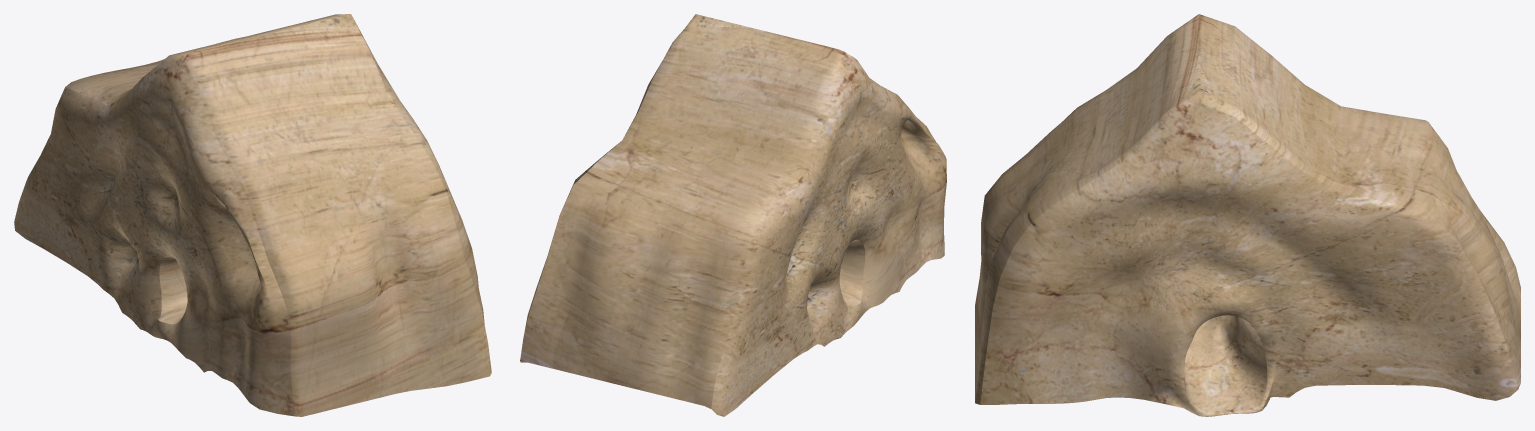
The model's file is MountainCave 1.fbx.
The picture shows the model from 3 angles, left to right: view 1: azimuth 30°, elevation 25°; view 2: azimuth 150°, elevation 25°; view 3: azimuth 270°, elevation 25°; orthographic projection. The views are drawn at different scales.
Parts seen in each view (by area): view 1: node_id4; view 2: node_id4; view 3: node_id4.
Boxes of the visible parts, <box> form: node_id4: <box>14,14,491,416</box>; node_id4: <box>520,14,946,416</box>; node_id4: <box>975,14,1520,416</box>.
Size of the model in its own units: 0.4545 by 0.5108 by 0.8513.
Materials: 1 (1 with a texture image).
